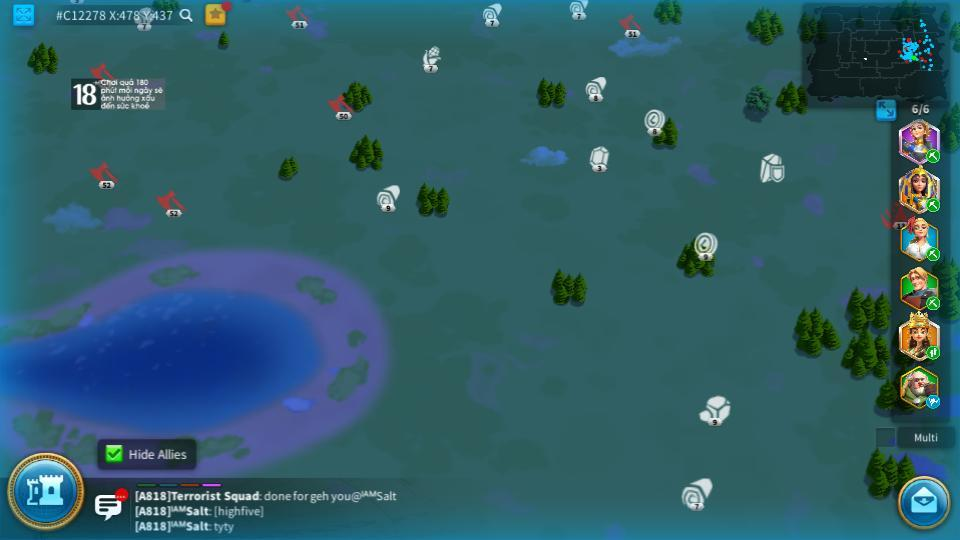gem-z-out: (588, 145, 611, 171)
march_farming: (923, 197, 940, 212), (925, 345, 941, 359), (925, 149, 941, 162), (924, 248, 939, 260), (925, 297, 941, 308)
